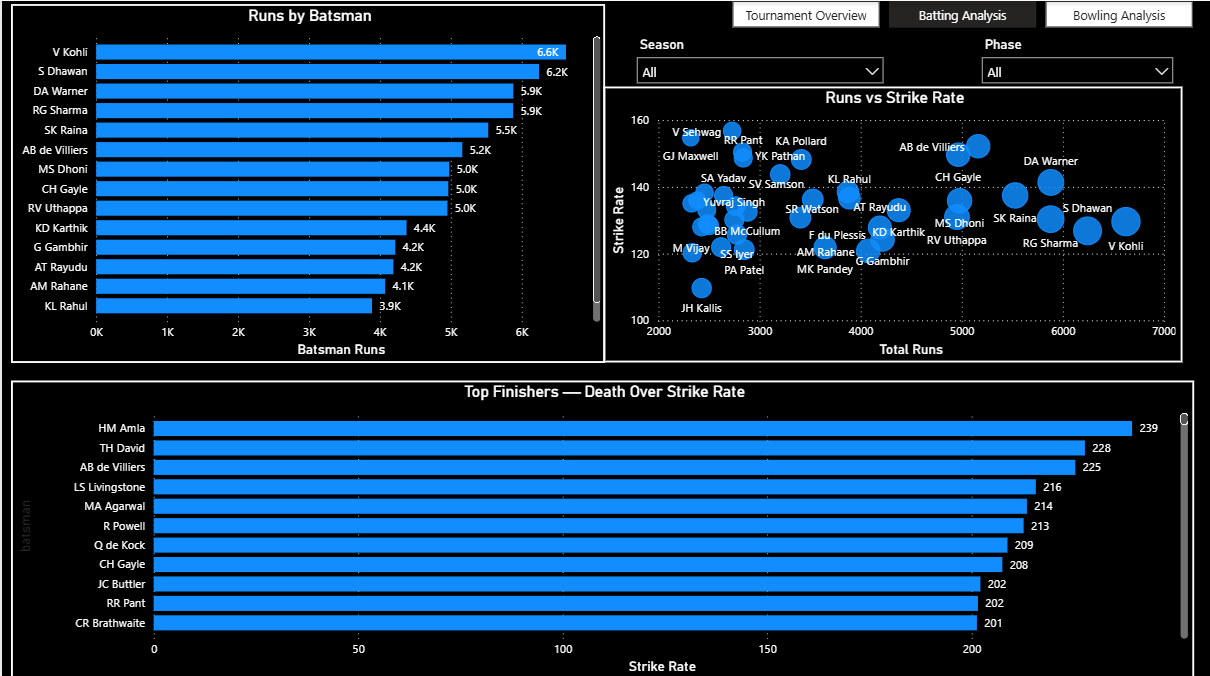

Layout of this report page (visuals, bound fields, positions):
{"tool":"powerbi","page":{"name":"Batting Analysis","canvas":[1280,720],"ordinal":1},"visuals":[{"type":"slicer","fields":{"Values":["public dim_match.season"]},"box":[663.3,31.8,281.5,58.9],"z":0},{"type":"slicer","fields":{"Values":["public fact_deliveries.phase"]},"box":[1029.1,31.8,222.7,58.9],"z":1000},{"type":"clusteredBarChart","title":"Runs by Batsman","fields":{"Category":["public fact_deliveries.batsman"],"Y":["public fact_deliveries.Batsman Runs"]},"box":[9.7,3.2,629.9,380.5],"z":2000},{"type":"scatterChart","title":"Runs vs Strike Rate","fields":{"Category":["public fact_deliveries.batsman"],"Size":["CountNonNull(public fact_deliveries.match_id)"],"X":["public fact_deliveries.Batsman Runs"],"Y":["public fact_deliveries.Strike Rate"]},"box":[637.8,90.7,614,292.7],"z":3000},{"type":"clusteredBarChart","title":"Top Finishers — Death Over Strike Rate","fields":{"Category":["public fact_deliveries.batsman"],"Y":["public fact_deliveries.Strike Rate"]},"box":[9.7,403.2,1254.9,317.4],"z":4000},{"type":"pageNavigator","box":[774,0,489,28],"z":5000}]}

Visuals, with their boxes in screenshot pixels (x1, y1, x2, y2), scaled from the page's 1280x720 canvas onto the 1210x676 screenshot:
slicer - public dim_match.season: box=[627, 30, 893, 85]
slicer - public fact_deliveries.phase: box=[973, 30, 1183, 85]
"Runs by Batsman" clusteredBarChart: box=[9, 3, 605, 360]
"Runs vs Strike Rate" scatterChart: box=[603, 85, 1183, 360]
"Top Finishers — Death Over Strike Rate" clusteredBarChart: box=[9, 379, 1195, 675]
pageNavigator: box=[732, 0, 1194, 26]
